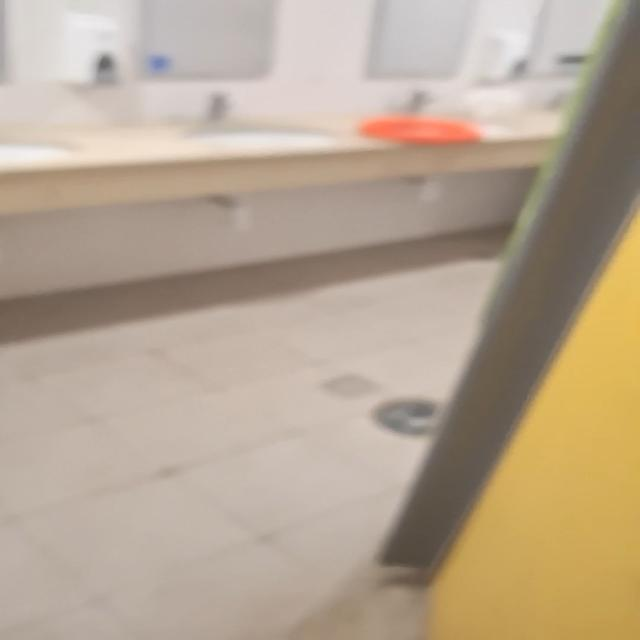note: (358, 114, 482, 144)
